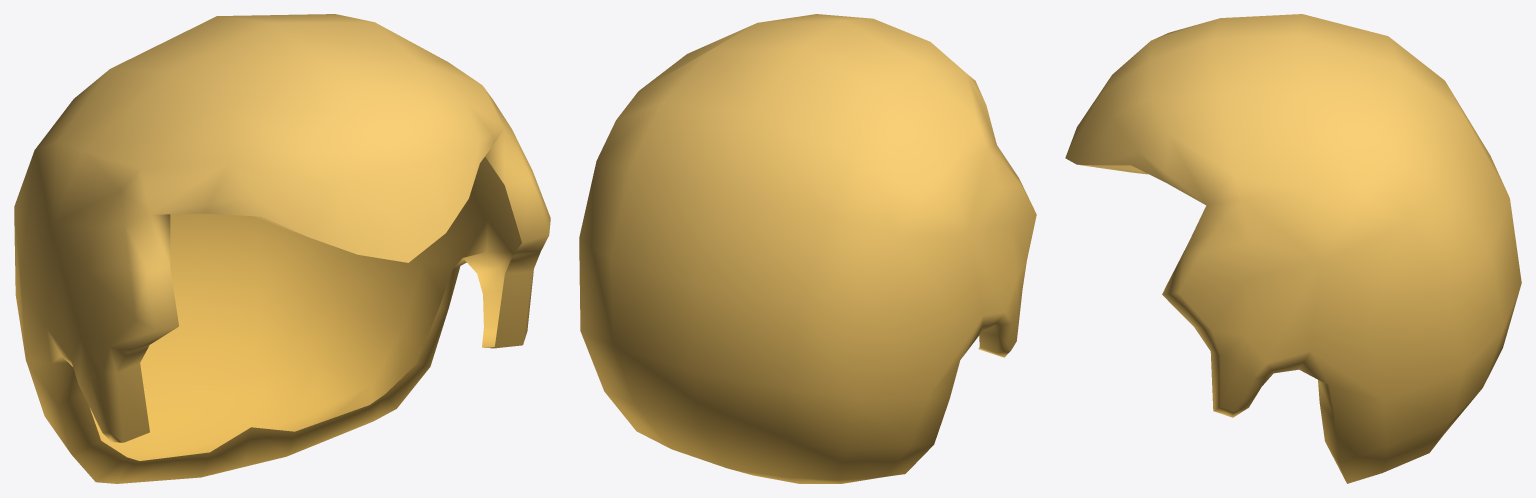
File: Hair_Yellow_2.fbx
3 renders of one model, left to right at view 1: azimuth 30°, elevation 25°; view 2: azimuth 150°, elevation 25°; view 3: azimuth 270°, elevation 25°, orthographic. The views are drawn at different scales.
Visible parts, largest first — view 1: Hair_Yellow_2; view 2: Hair_Yellow_2; view 3: Hair_Yellow_2.
Part boxes in pixels (<box>): Hair_Yellow_2: <box>14,14,550,483</box>; Hair_Yellow_2: <box>579,14,1036,483</box>; Hair_Yellow_2: <box>1065,14,1521,483</box>.
Size of the model in its own units: 52.84 by 52.69 by 53.88.
